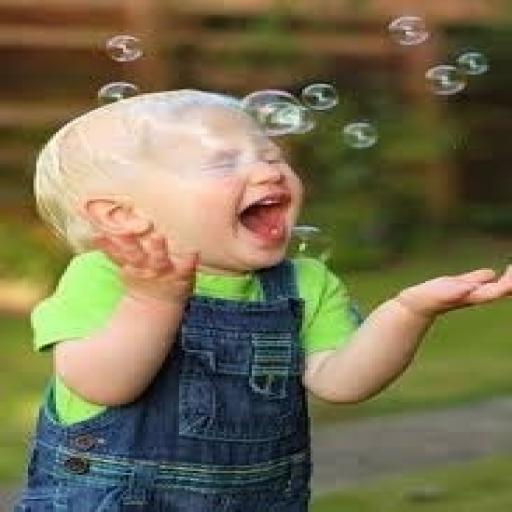laughing: (14, 73, 506, 508)
